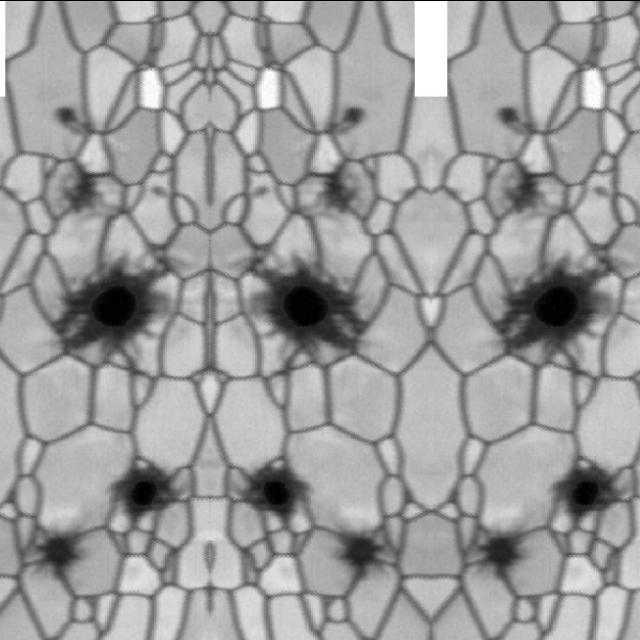good_void: (240, 242, 368, 370), (495, 248, 619, 368), (52, 248, 175, 368), (96, 449, 191, 546), (539, 449, 634, 546), (228, 450, 316, 542), (19, 522, 89, 587), (462, 522, 532, 587), (330, 522, 399, 586), (314, 172, 360, 218), (58, 172, 104, 218), (501, 172, 547, 218), (144, 178, 174, 213), (587, 178, 617, 213), (245, 179, 273, 212), (52, 99, 78, 132), (340, 99, 365, 132), (496, 99, 521, 132)
